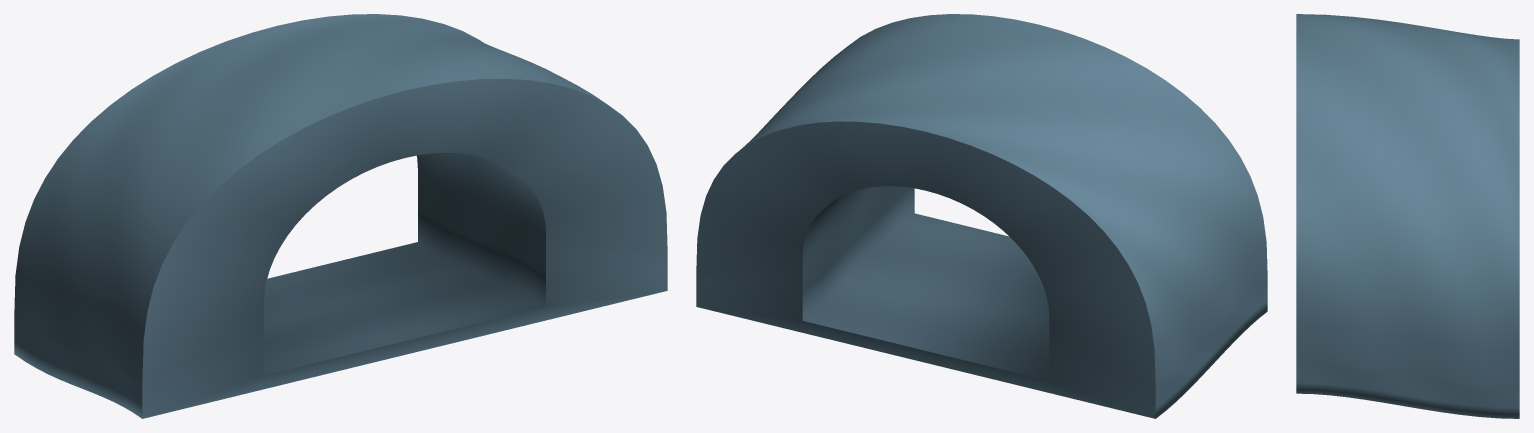
The model's file is grade_down_terrain.glb.
3 renders of one model, left to right at view 1: azimuth 30°, elevation 25°; view 2: azimuth 150°, elevation 25°; view 3: azimuth 270°, elevation 25°, orthographic. The views are drawn at different scales.
Visible parts, largest first — view 1: TerrainRoof.010; view 2: TerrainRoof.010; view 3: TerrainRoof.010.
Boxes of the visible parts, x1,y1,x2,y2 form: TerrainRoof.010: (14,14,667,418); TerrainRoof.010: (696,14,1267,418); TerrainRoof.010: (1296,14,1519,418).
Bounding box in the file's own units: 28.4 × 15.15 × 12.
